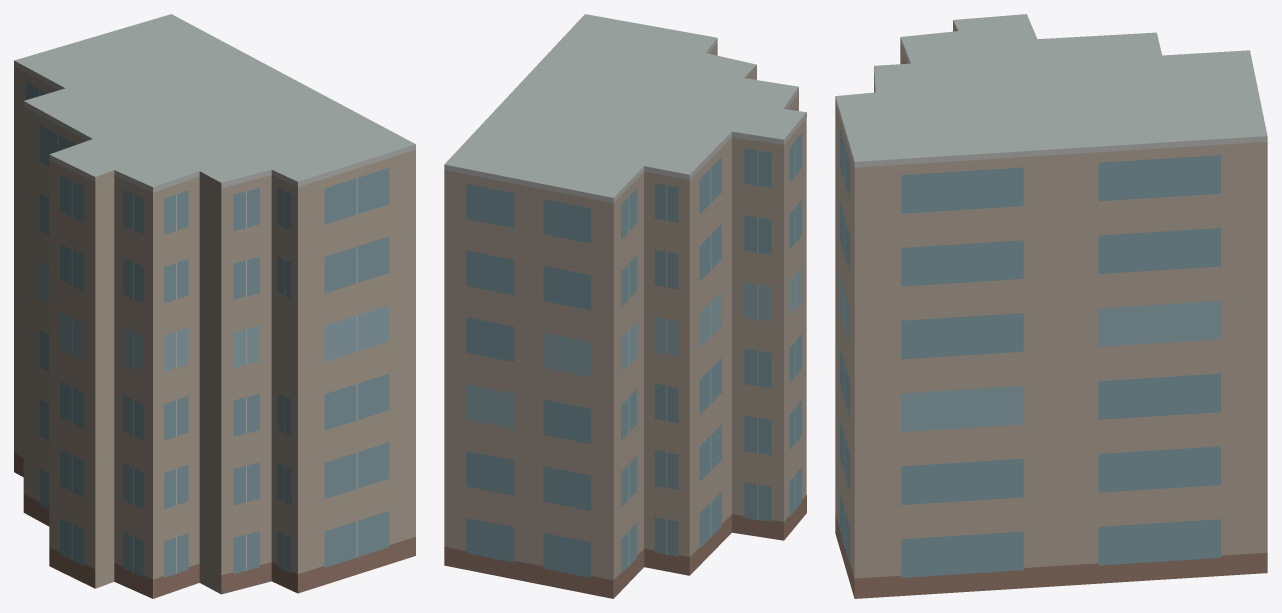
The model's file is survey-upis-32590326.glb.
The picture shows the model from 3 angles, left to right: view 1: azimuth 30°, elevation 25°; view 2: azimuth 150°, elevation 25°; view 3: azimuth 270°, elevation 25°; orthographic projection. The views are drawn at different scales.
Visible parts, largest first — view 1: survey-upis-32590326.tmp; view 2: survey-upis-32590326.tmp; view 3: survey-upis-32590326.tmp.
Part boxes in pixels (bbox=[...]): survey-upis-32590326.tmp: bbox=[14, 14, 415, 598]; survey-upis-32590326.tmp: bbox=[444, 14, 806, 598]; survey-upis-32590326.tmp: bbox=[835, 14, 1267, 598].
Size of the model in its own units: 13.29 by 18.3 by 16.41.
